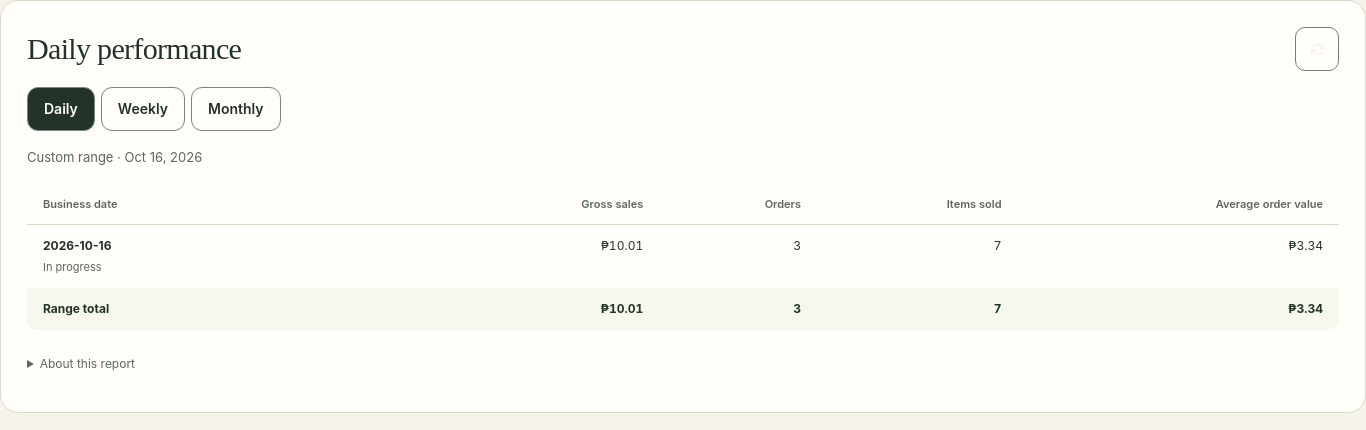
Test case: keeps an explicitly applied one-day custom range in Monthly
Check: the table is shown, box [27,184,1339,330]
Click the button "Monthly" at x=236, y=109, box [191,87,281,131]
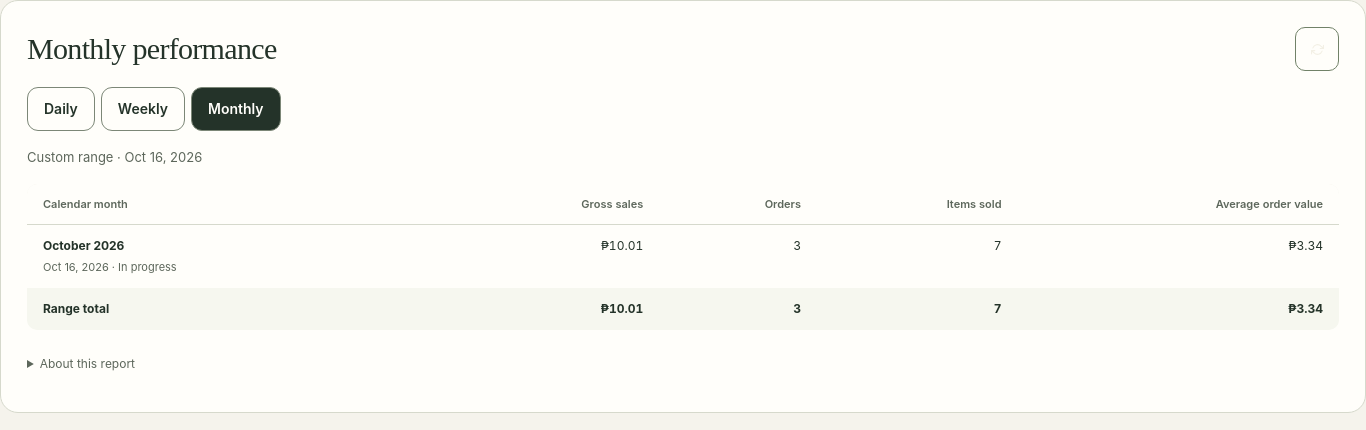
Check: the text "Custom range · Oct 16, 2026" is shown, box [27,149,202,165]
Check: the element named "Monthly performance table" is shown, box [27,184,1339,330]
